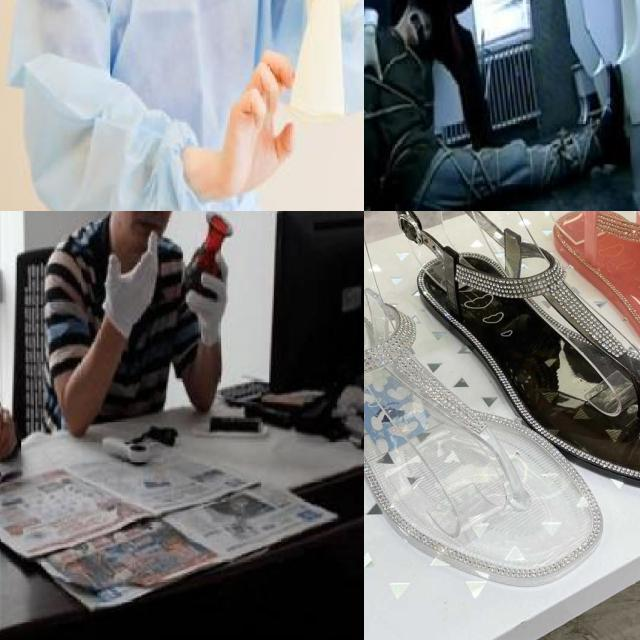Sandals: (364, 211, 625, 593), (389, 211, 640, 494), (517, 211, 640, 430)
face_nomask: (115, 211, 179, 235)
hand_glove: (100, 227, 162, 329), (186, 250, 231, 340), (364, 29, 387, 90)
hand_noglove: (224, 49, 298, 198), (0, 402, 12, 462)
person: (19, 0, 364, 211), (38, 211, 219, 427), (364, 0, 501, 158)
